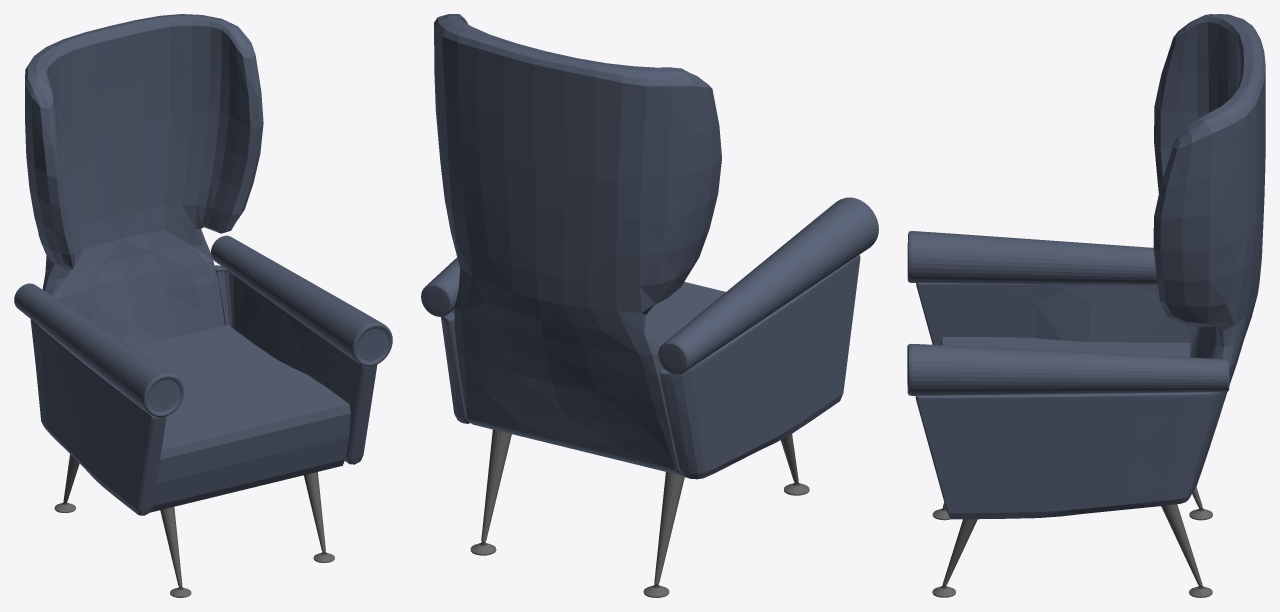
The model's file is sweethome3d-scopia-armchair-23.glb.
3 views of the same model, side by side, from view 1: azimuth 30°, elevation 25°; view 2: azimuth 150°, elevation 25°; view 3: azimuth 270°, elevation 25° (orthographic). The views are drawn at different scales.
Parts seen in each view (by area): view 1: sillon_orejas.001_Cub, sillonrejas_pot.0; view 2: sillon_orejas.001_Cub, sillonrejas_pot.0; view 3: sillon_orejas.001_Cub, sillonrejas_pot.0.
Boxes of the visible parts, left/top/right/bottom form: sillon_orejas.001_Cub: left=14, top=14, right=392, bottom=515; sillonrejas_pot.0: left=54, top=454, right=334, bottom=597; sillon_orejas.001_Cub: left=421, top=14, right=878, bottom=479; sillonrejas_pot.0: left=470, top=429, right=809, bottom=597; sillon_orejas.001_Cub: left=907, top=14, right=1265, bottom=519; sillonrejas_pot.0: left=932, top=487, right=1212, bottom=597.
Bounding box in the file's own units: 0.5851 × 1 × 0.6573.
